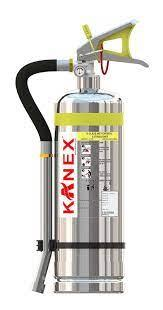Fire Extinguisher: (13, 15, 153, 302)
